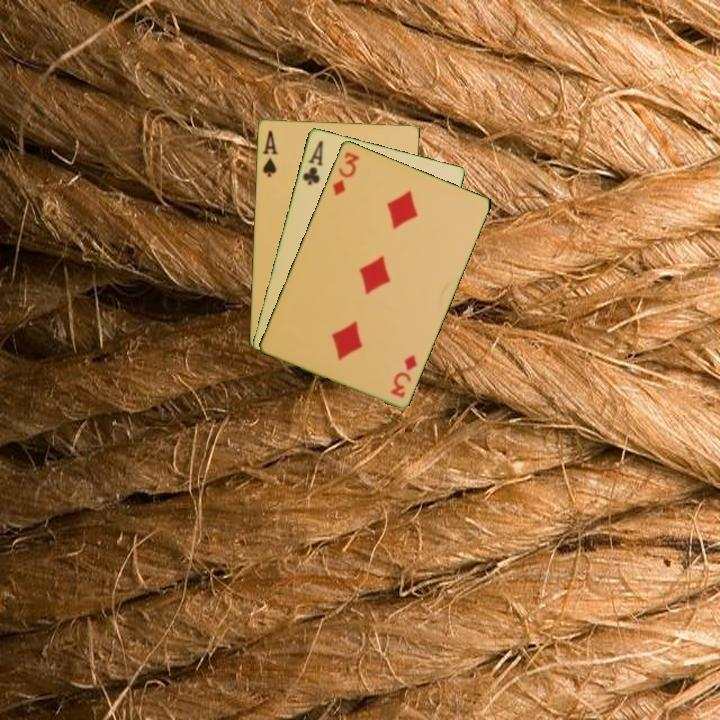3d: (329, 148, 362, 199), (387, 350, 420, 401)
Ac: (299, 137, 326, 188)
As: (259, 126, 280, 179)
